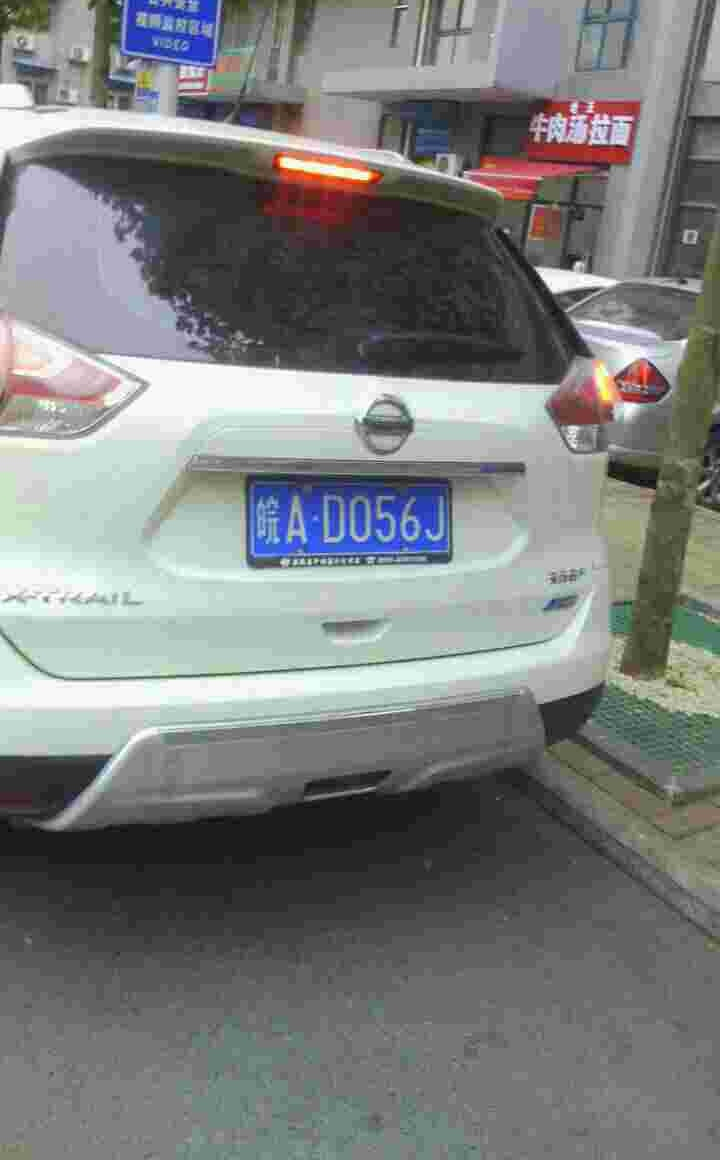car: (244, 468, 463, 566)
